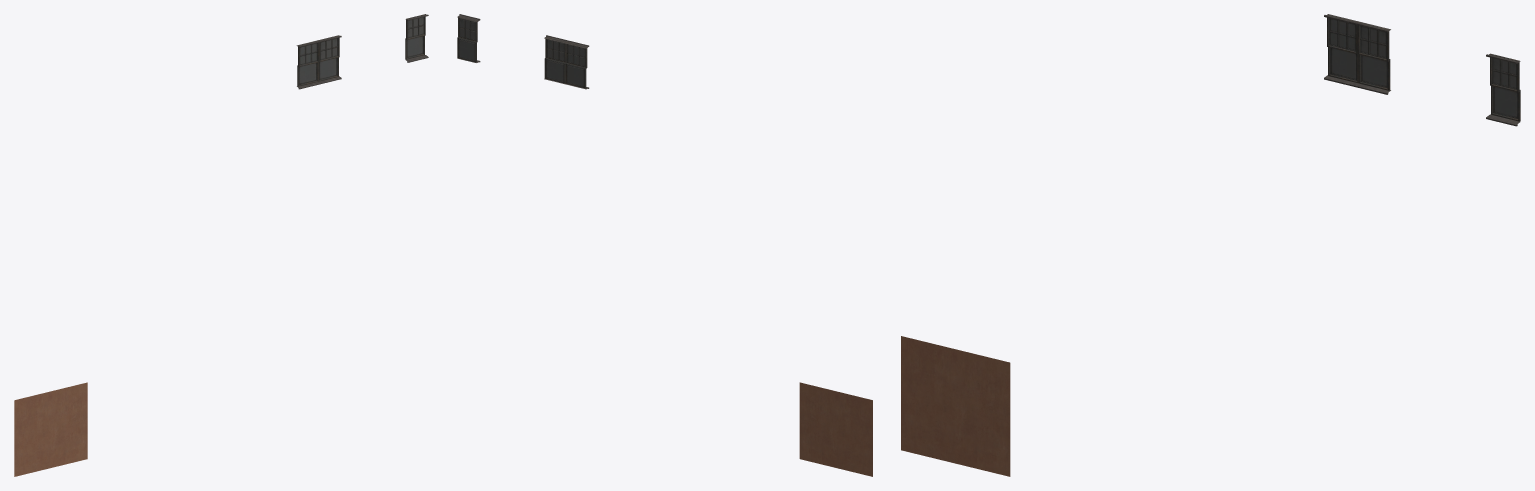
Rendered from modular_urban_apartments_facade.glb.
The picture shows the model from 3 angles, left to right: view 1: azimuth 30°, elevation 25°; view 2: azimuth 150°, elevation 25°; view 3: azimuth 330°, elevation 25°; orthographic projection. The views are drawn at different scales.
Parts seen in each view (by area): view 1: wall_standard_standard_01, window_centered_large_03, window_centered_small_03; view 2: wall_standard_standard_01, window_centered_large_03, window_centered_small_03; view 3: wall_standard_standard_01, window_centered_large_03, window_centered_small_03.
Part boxes in pixels (x1,y1,x2,y2): wall_standard_standard_01: (14, 382, 87, 476); window_centered_large_03: (296, 35, 341, 89); window_centered_small_03: (405, 14, 428, 62); wall_standard_standard_01: (799, 382, 872, 476); window_centered_large_03: (544, 35, 589, 89); window_centered_small_03: (457, 14, 480, 62); wall_standard_standard_01: (901, 336, 1010, 476); window_centered_large_03: (1324, 14, 1390, 94); window_centered_small_03: (1486, 53, 1520, 126).
Bounding box in the file's own units: 16.92 × 14.14 × 0.2549.
4 materials, 4 textured.
